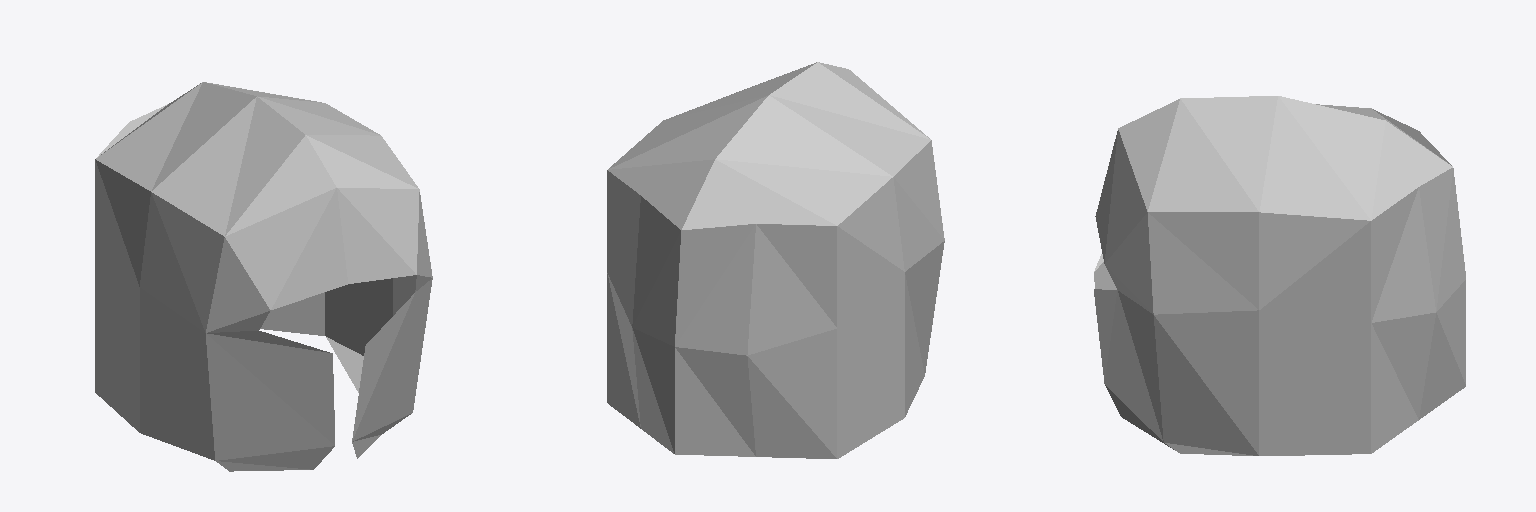
The model's file is KnightHead.obj.
3 views of the same model, side by side, from view 1: azimuth 30°, elevation 25°; view 2: azimuth 150°, elevation 25°; view 3: azimuth 270°, elevation 25° (orthographic).
Parts seen in each view (by area): view 1: Cone.001; view 2: Cone.001; view 3: Cone.001.
Boxes of the visible parts, x1=… form: Cone.001: x1=95, y1=82, x2=432, y2=471; Cone.001: x1=607, y1=62, x2=944, y2=458; Cone.001: x1=1094, y1=96, x2=1465, y2=455.
Bounding box in the file's own units: 1.39 × 1.68 × 1.78.